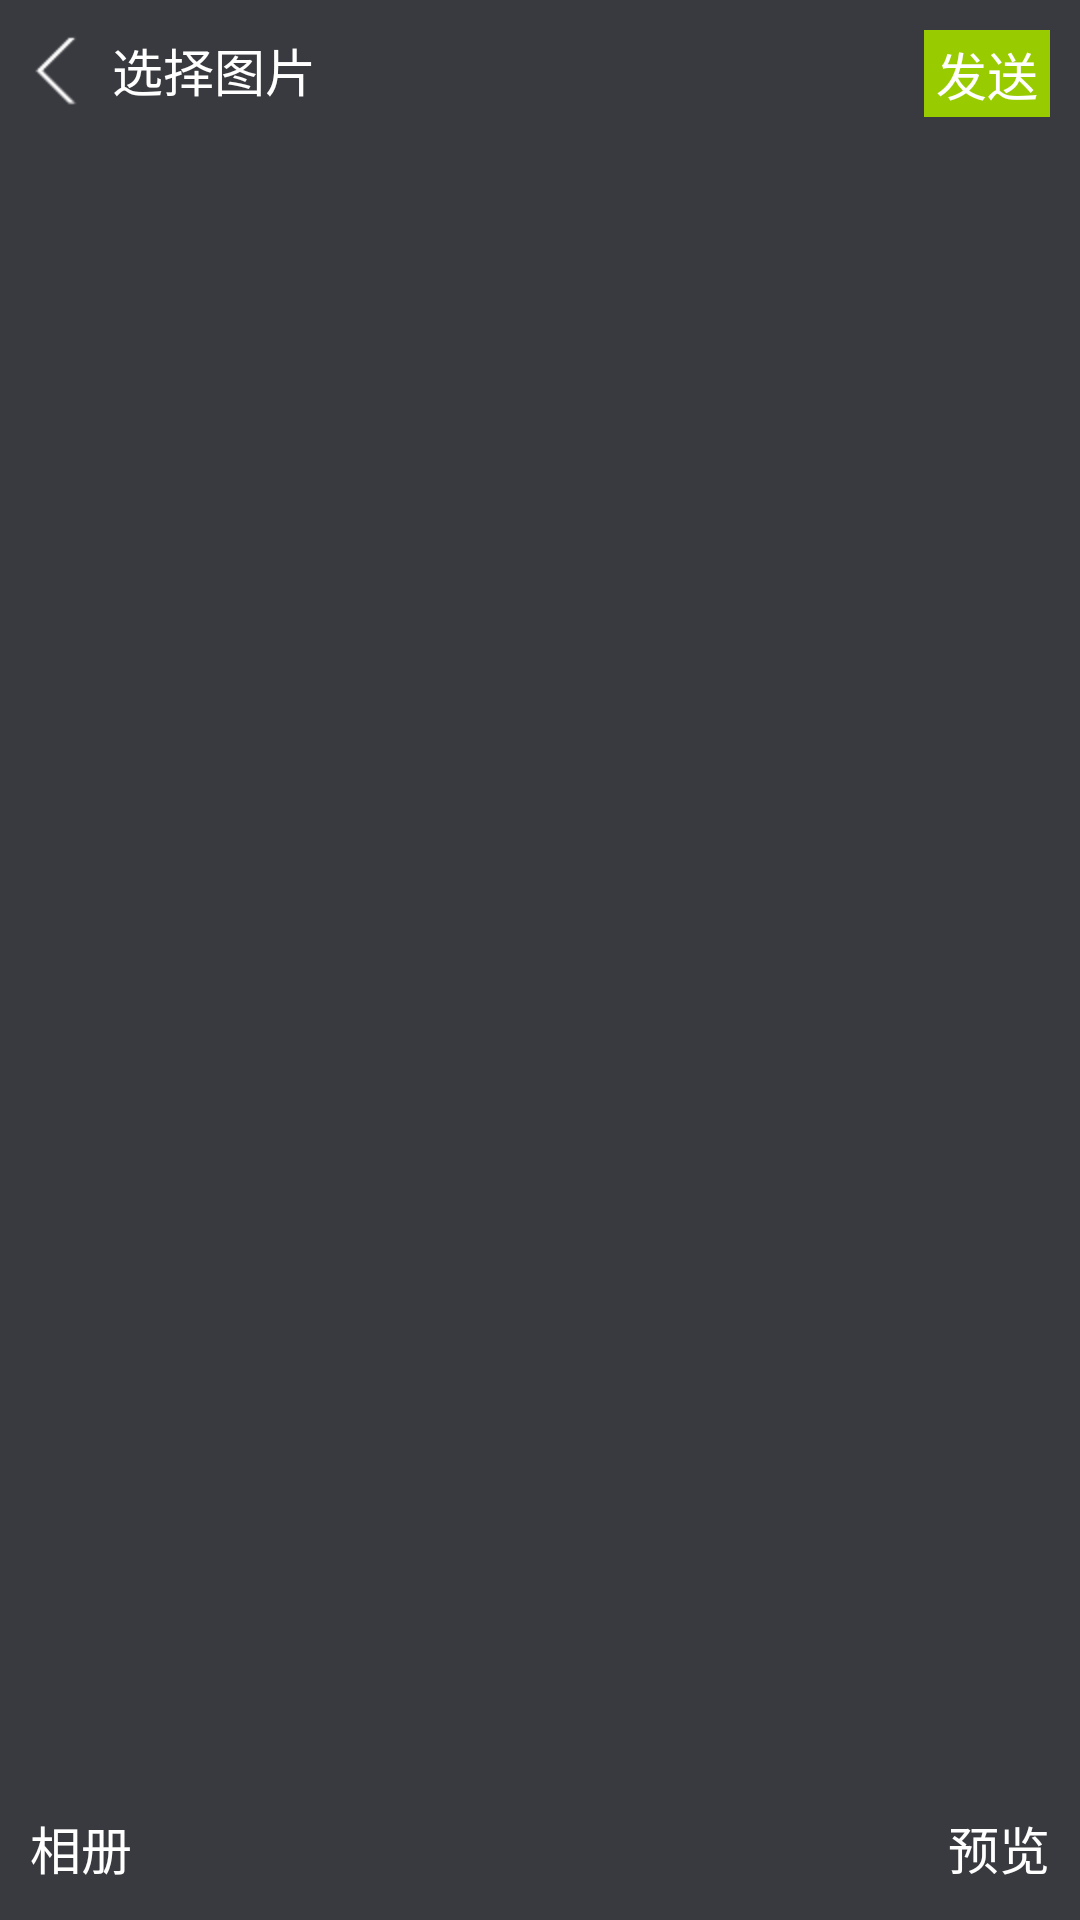

Screen size 1080 × 1920. Icon name, then its box in pixels as (left=x1, top=y1, right=x2, bottom=y2):
back: (left=36, top=37, right=75, bottom=105)
